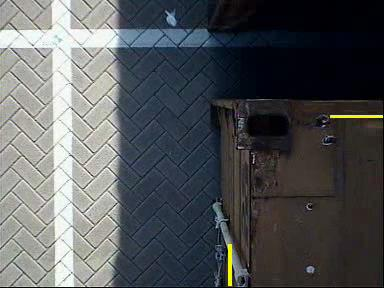groundmarker_2: (85, 50, 210, 144)
